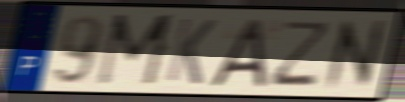9: (49, 12, 110, 86)
A: (206, 16, 268, 89)
K: (163, 16, 219, 87)
M: (92, 12, 179, 89)
N: (321, 17, 388, 93)
Z: (266, 19, 336, 88)
